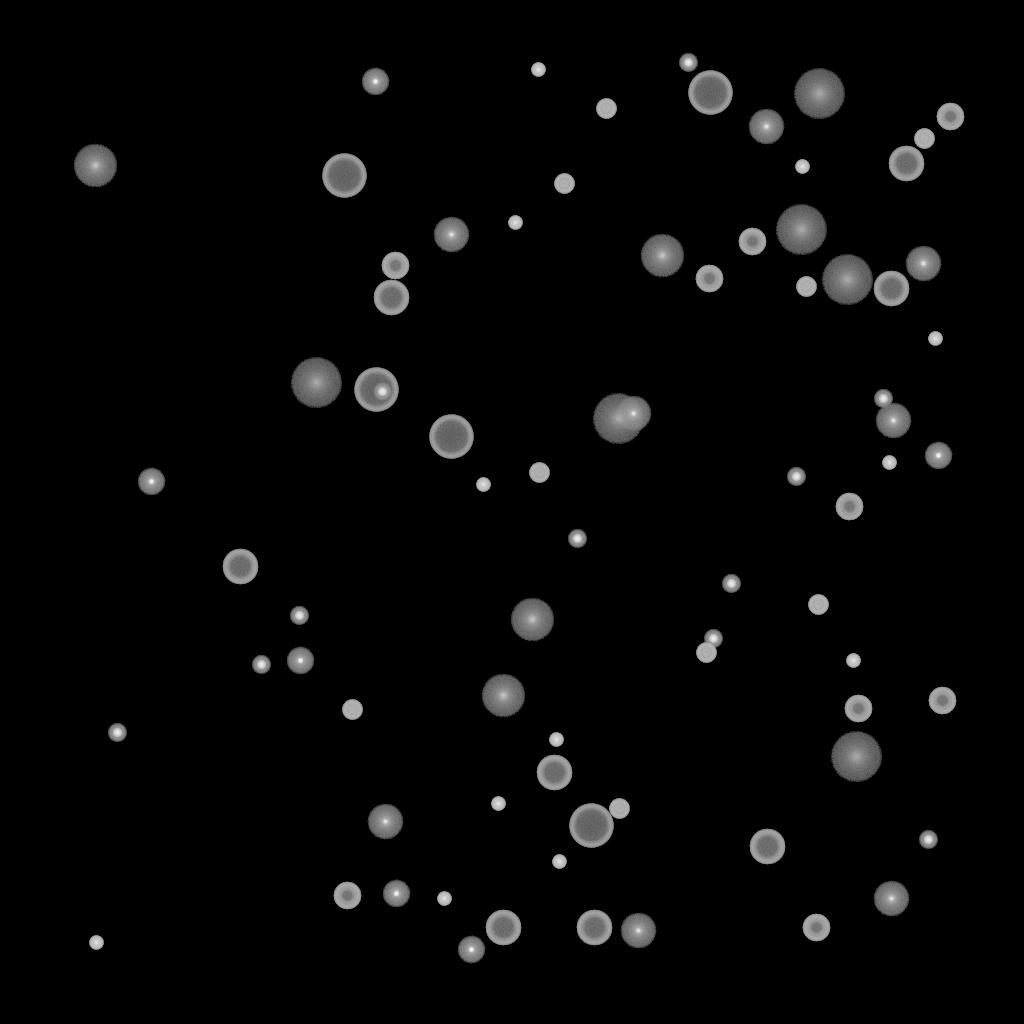depth:-10: (137, 468, 165, 496), (457, 936, 485, 964), (382, 880, 410, 908), (361, 68, 389, 96), (286, 647, 314, 675), (924, 442, 952, 470)
depth:-20: (874, 390, 892, 408), (722, 575, 740, 593), (704, 630, 722, 648), (373, 383, 391, 401), (290, 607, 308, 625), (252, 656, 270, 674), (919, 831, 937, 849), (679, 54, 697, 72), (787, 468, 805, 486), (108, 724, 126, 742), (568, 530, 586, 548)
depth:-30: (795, 160, 809, 174), (491, 797, 505, 811), (531, 63, 545, 77), (508, 216, 522, 230), (552, 855, 566, 869), (882, 456, 896, 470), (476, 478, 490, 492), (846, 654, 860, 668), (89, 936, 103, 950), (928, 332, 942, 346), (437, 892, 451, 906), (549, 733, 563, 747)
depth:-40: (914, 129, 934, 149), (554, 174, 574, 194), (696, 643, 716, 663), (596, 99, 616, 119), (808, 595, 828, 615), (609, 799, 629, 819), (529, 463, 549, 483), (796, 277, 816, 297), (342, 700, 362, 720)
depth:-50: (738, 228, 766, 256), (936, 103, 964, 131), (928, 687, 956, 715), (695, 265, 723, 293), (333, 882, 361, 910), (381, 252, 409, 280), (802, 914, 830, 942), (835, 493, 863, 521), (844, 695, 872, 723)
depth:-60: (888, 146, 924, 182), (536, 755, 572, 791), (873, 271, 909, 307), (749, 829, 785, 865), (576, 910, 612, 946), (222, 549, 258, 585), (485, 910, 521, 946), (373, 280, 409, 316)
depth:-70: (354, 368, 398, 412), (688, 71, 732, 115), (322, 154, 366, 198), (429, 415, 473, 459), (569, 804, 613, 848)
depth:0: (748, 109, 784, 145), (875, 403, 911, 439), (905, 246, 941, 282), (873, 881, 909, 917), (433, 217, 469, 253), (620, 913, 656, 949), (367, 804, 403, 840), (615, 396, 651, 432)
depth:10: (73, 144, 117, 188), (510, 598, 554, 642), (481, 674, 525, 718), (640, 234, 684, 278)
depth:20: (592, 394, 644, 444), (290, 358, 342, 408), (821, 255, 873, 305), (775, 205, 827, 255), (830, 732, 882, 782), (793, 69, 845, 119)
